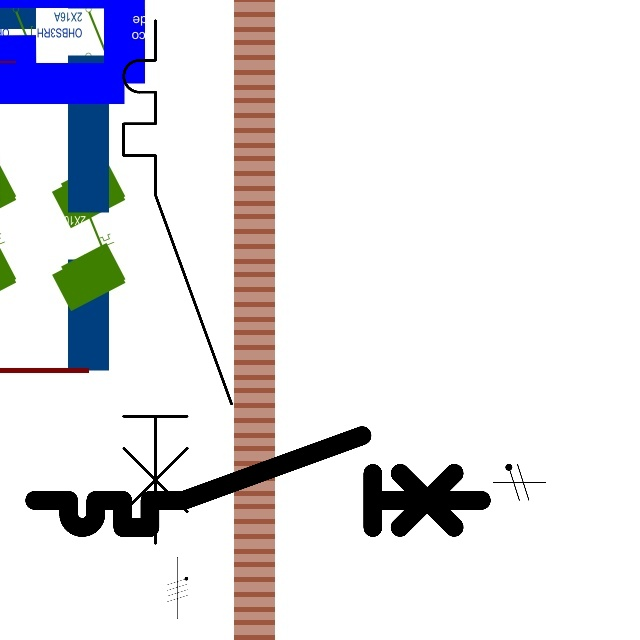interruptor_termomagnetico: (110, 7, 244, 557), (23, 424, 493, 539)
